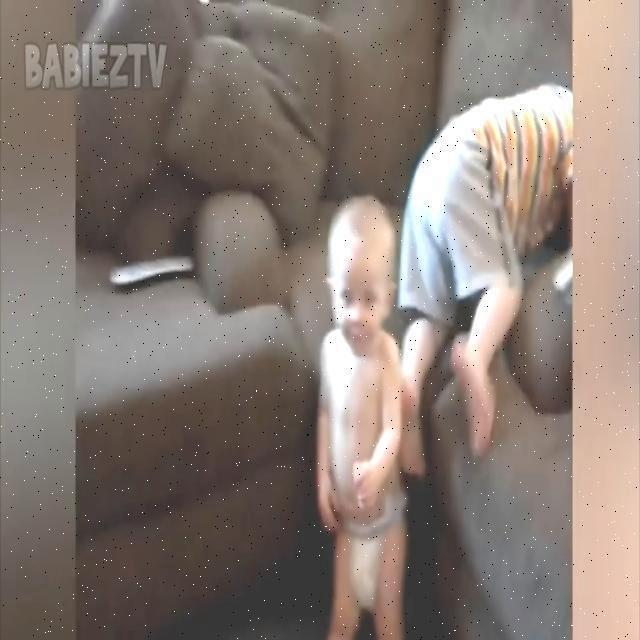child: (314, 192, 409, 640)
